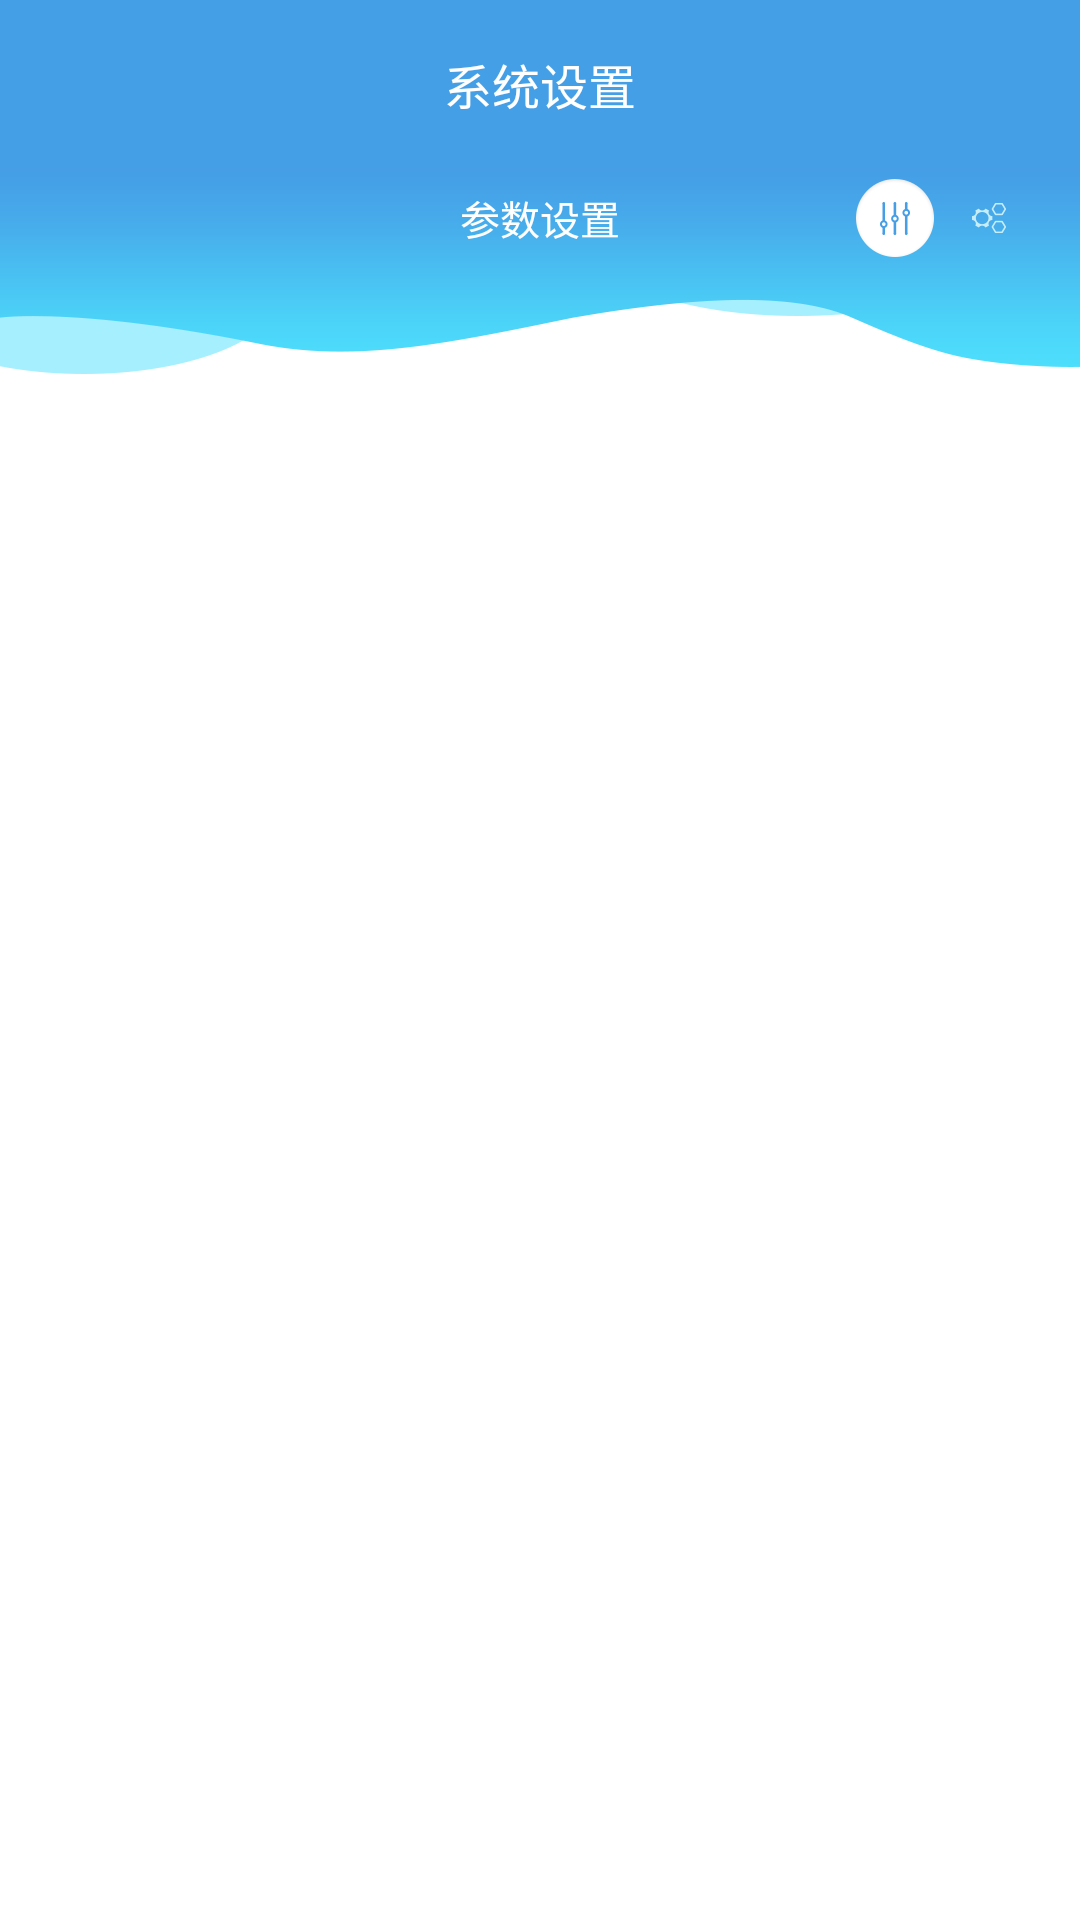

Locate icon controls on the screen. Image size 1080px×1920px, boxes as (x1, y1, x2, y2).
ssetting parameter highliht: (856, 179, 934, 257)
